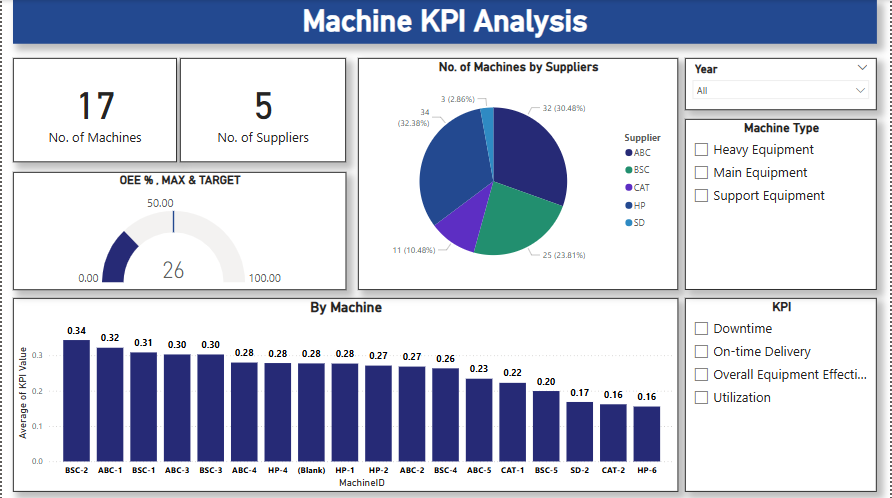

This screenshot's page, from the dashboard's own definition file:
{"tool":"powerbi","page":{"name":"DQKPI","canvas":[1280,720],"ordinal":0},"visuals":[{"type":"clusteredColumnChart","title":"By Machine","fields":{"Category":["DQ.MachineID"],"Y":["Avg(DQ.Value)"]},"box":[15.8,429.6,957.6,279.4],"z":0},{"type":"slicer","title":"KPI","fields":{"Values":["DQ.KPIName"]},"box":[983.5,429.6,276.5,279.4],"z":1000},{"type":"textbox","box":[15.8,0,1244.2,63.4],"z":2000},{"type":"card","fields":{"Values":["Count(KPI.MachineID)"]},"box":[15.8,83.5,236.2,149.8],"z":3000},{"type":"card","fields":{"Values":["Count(KPI.Supplier)"]},"box":[256.3,83.5,239,149.8],"z":4000},{"type":"gauge","title":"OEE % , MAX & TARGET","fields":{"Y":["DQ.OEE_MEASURE"]},"box":[15.8,247.7,479.5,169.9],"z":5000},{"type":"pieChart","title":"No. of Machines by Suppliers","fields":{"Series":["KPI.Supplier"],"Y":["CountNonNull(KPI.MachineID)"]},"box":[512.6,83.5,460.8,334.1],"z":6000},{"type":"slicer","fields":{"Values":["KPI.Date.Variation.Date Hierarchy.Year"]},"box":[983.5,83.5,276.5,74.9],"z":7000},{"type":"slicer","title":"Machine Type","fields":{"Values":["DimMachine.Machine Type"]},"box":[983.5,171.4,276.5,246.2],"z":8000}]}

Visuals, with their boxes in screenshot pixels (x1, y1, x2, y2), scaled from the page's 1280x720 canvas onto the 892x498 screenshot:
"By Machine" clusteredColumnChart: {"left": 11, "top": 297, "right": 678, "bottom": 490}
"KPI" slicer: {"left": 685, "top": 297, "right": 878, "bottom": 490}
textbox: {"left": 11, "top": 0, "right": 878, "bottom": 44}
card - Count(KPI.MachineID): {"left": 11, "top": 58, "right": 176, "bottom": 161}
card - Count(KPI.Supplier): {"left": 179, "top": 58, "right": 345, "bottom": 161}
"OEE % , MAX & TARGET" gauge: {"left": 11, "top": 171, "right": 345, "bottom": 289}
"No. of Machines by Suppliers" pieChart: {"left": 357, "top": 58, "right": 678, "bottom": 289}
slicer - KPI.Date.Variation.Date Hierarchy.Year: {"left": 685, "top": 58, "right": 878, "bottom": 110}
"Machine Type" slicer: {"left": 685, "top": 119, "right": 878, "bottom": 289}
